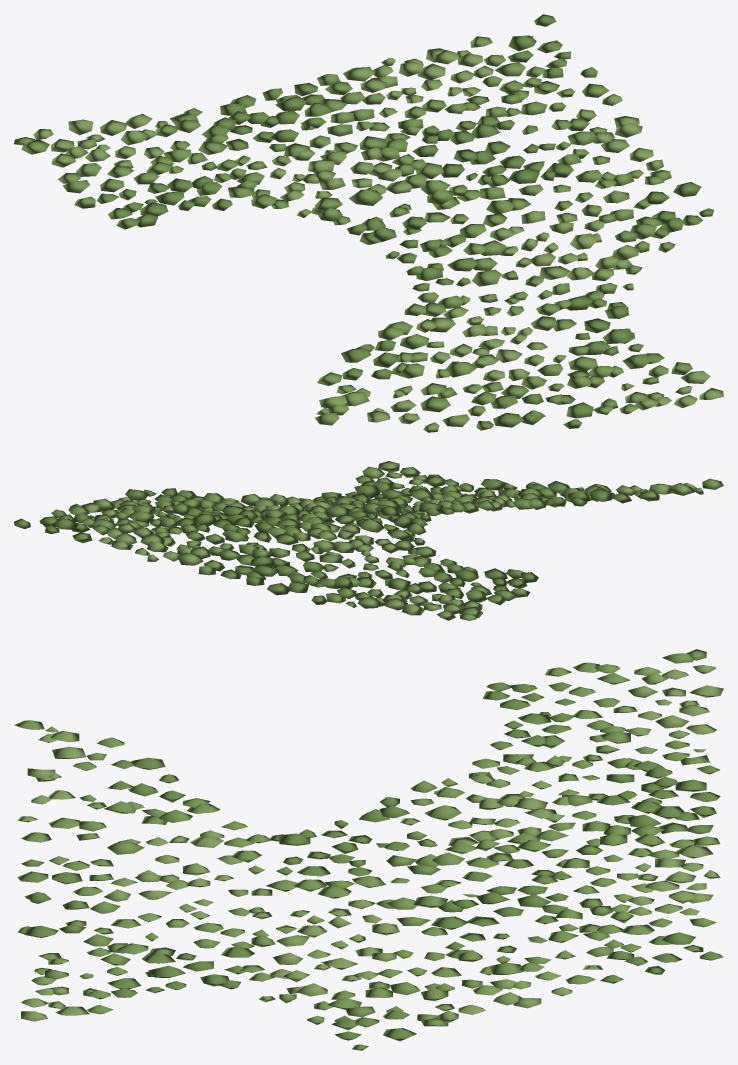
The model's file is canopy-1--5-4.glb.
3 views of the same model, one above another, from view 1: azimuth 30°, elevation 25°; view 2: azimuth 150°, elevation 25°; view 3: azimuth 270°, elevation 25° (orthographic). The views are drawn at different scales.
Bounding box in the file's own units: 518 × 125 × 515.
1 material, 1 textured.
